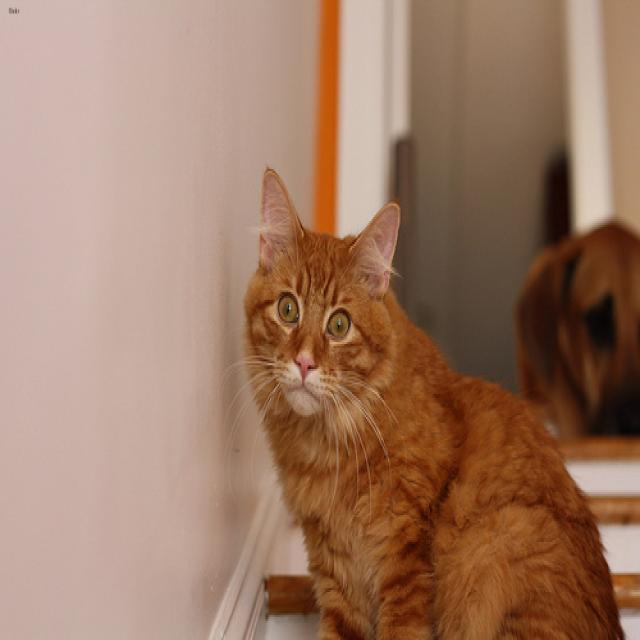Maine_Coon: (240, 158, 405, 433)
